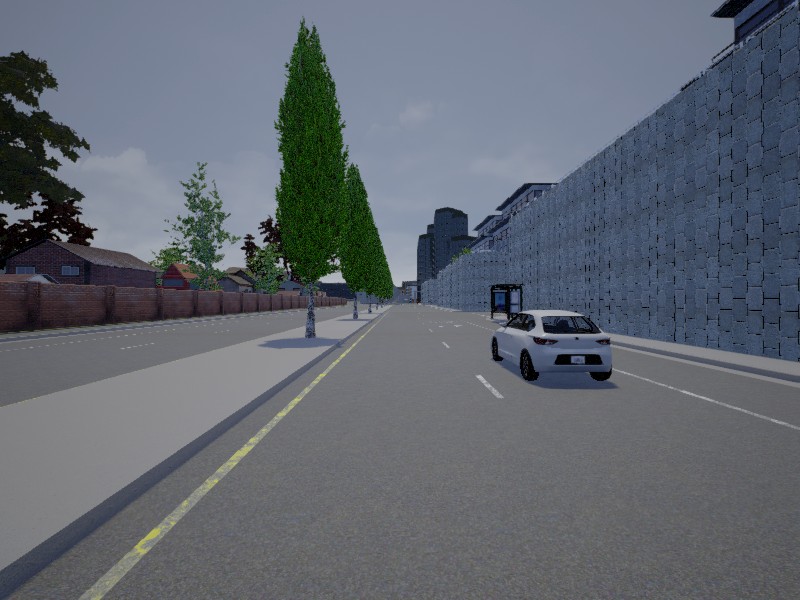Benign: (489, 310, 614, 383)
